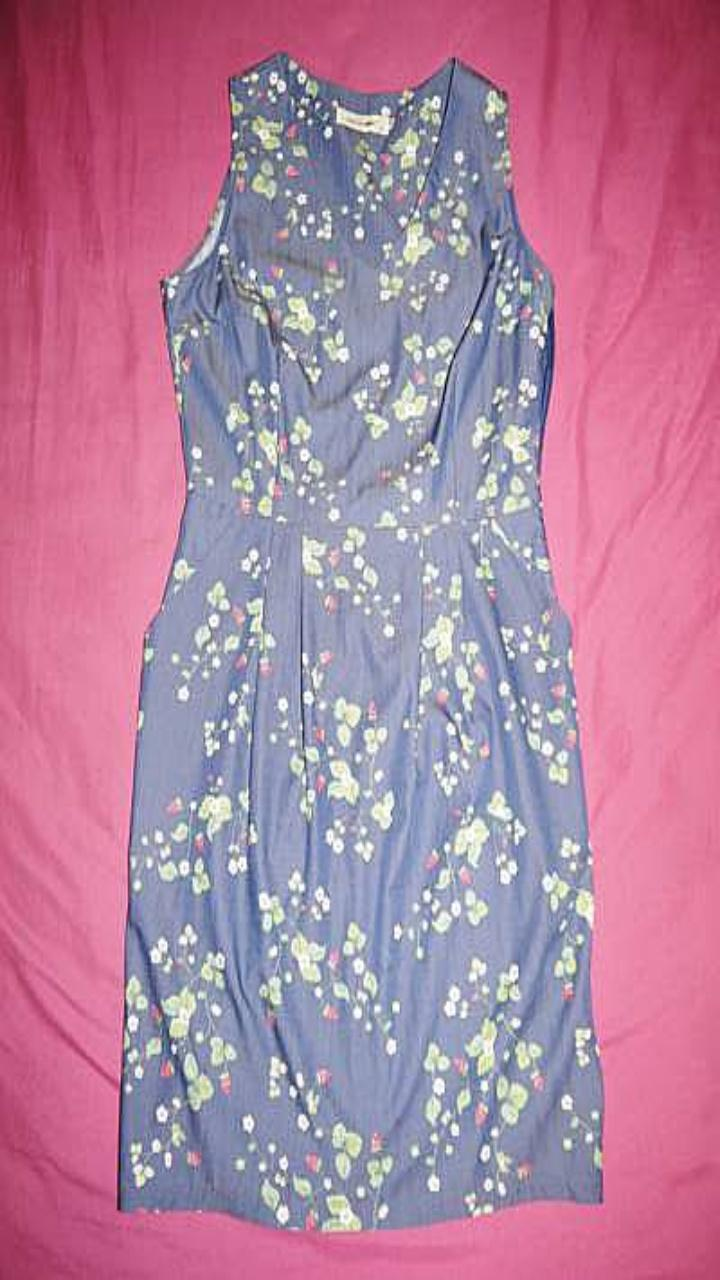Dresses: (118, 52, 602, 1229)
